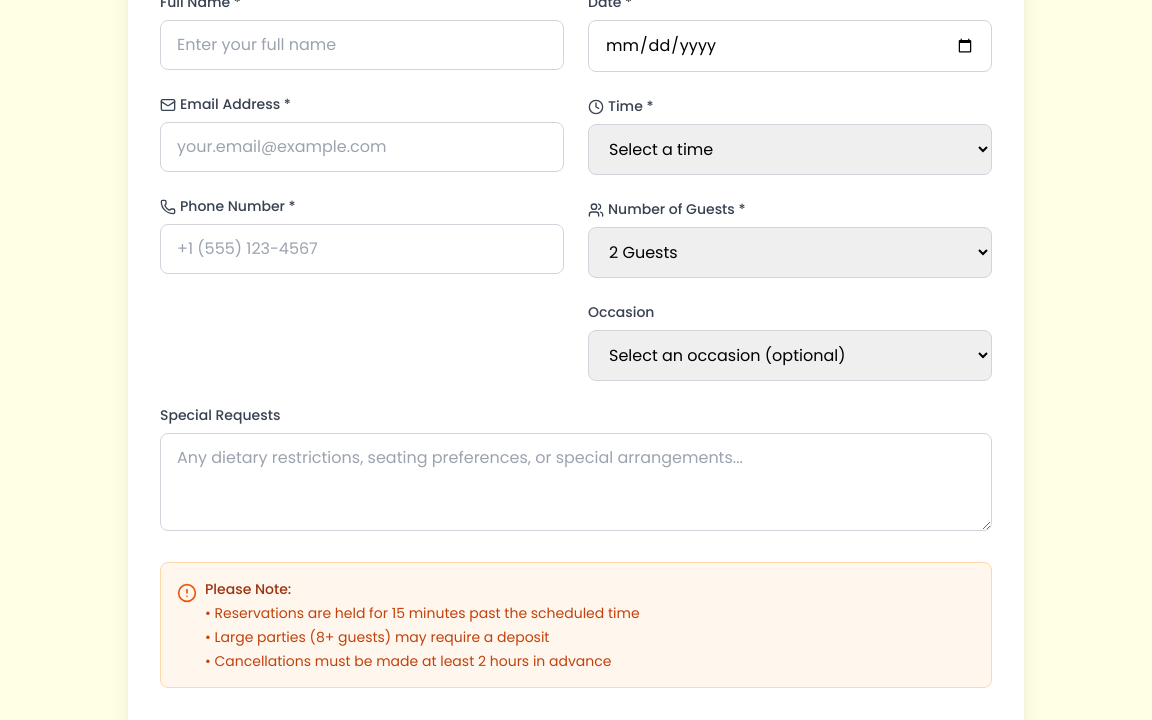
Test: Reservation Component › Form Validation › clears validation errors when user corrects input
The image size is (1152, 720).
(page scrolled)
# Submit empty form to generate errors
Submit the form
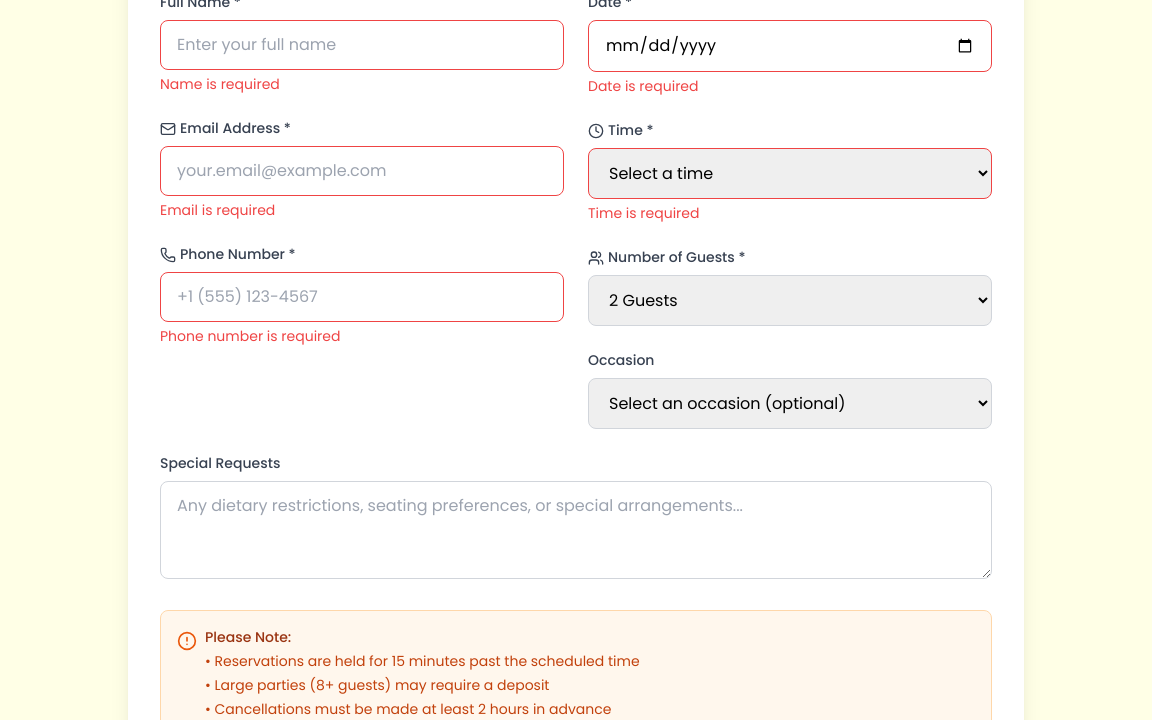
expect the text "Name is required" is shown: met, box [160, 74, 280, 94]
# Fix the name field
Type "John Doe" into the field with placeholder "Enter your full name". click: (362, 45)
box: [160, 20, 564, 70]
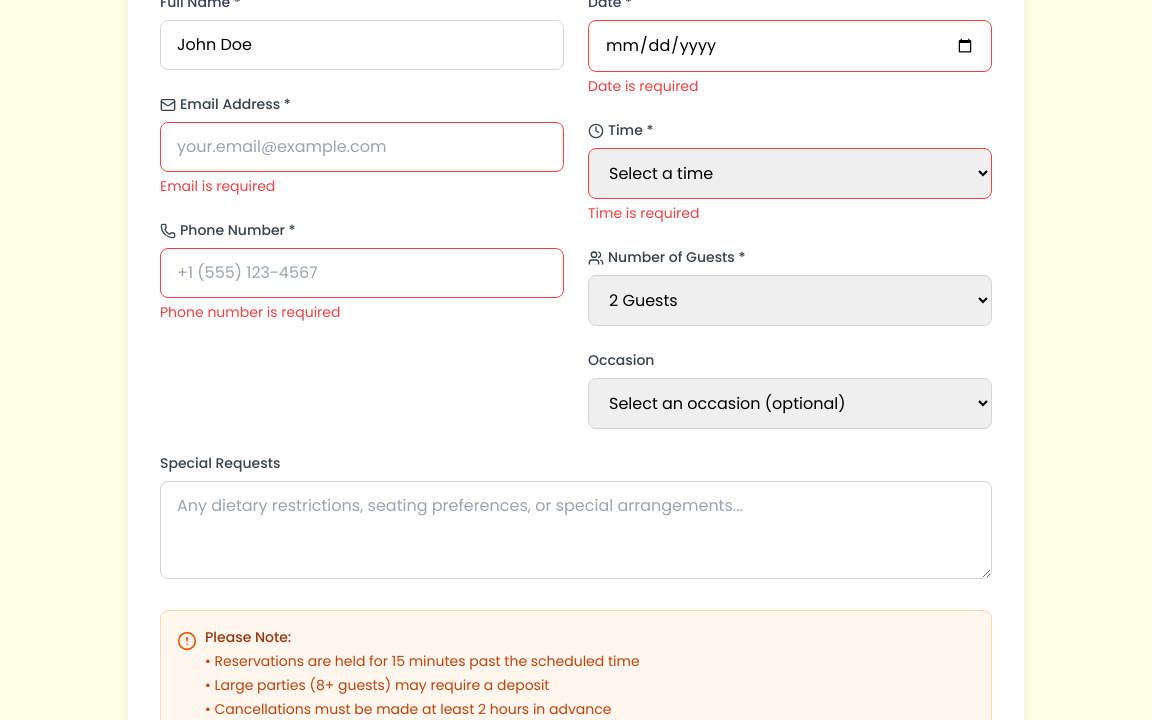
expect the text "Name is required" is gone: met
